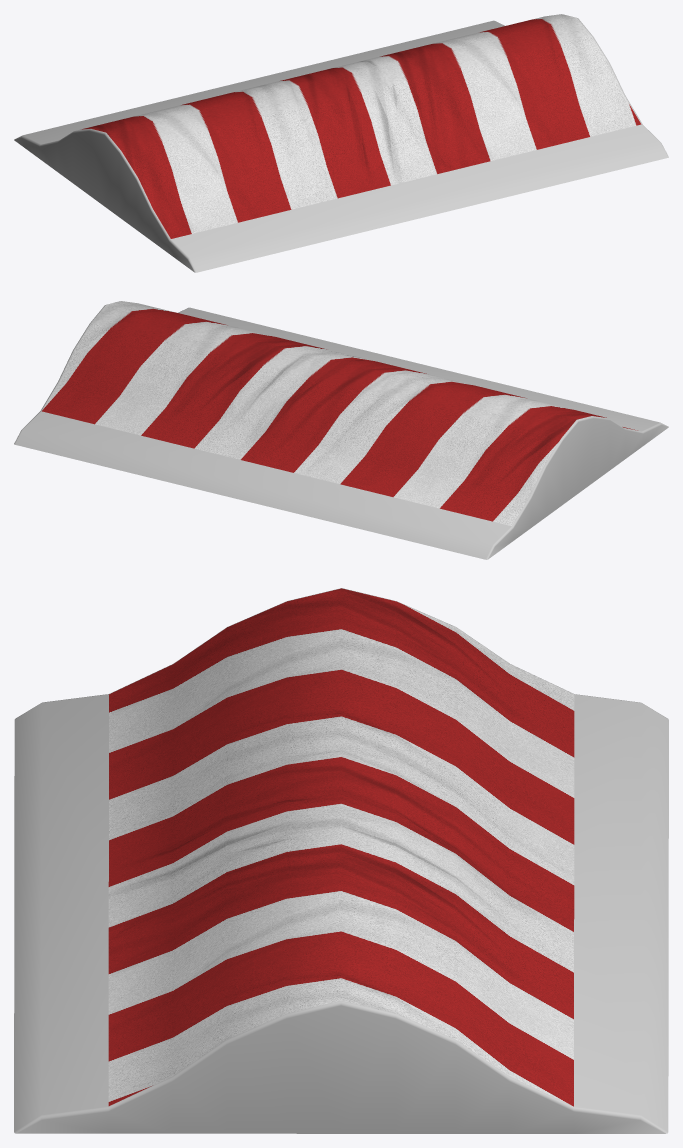
File: SpeedBumps.fbx
3 views of the same model, one above another, from view 1: azimuth 30°, elevation 25°; view 2: azimuth 150°, elevation 25°; view 3: azimuth 270°, elevation 25° (orthographic). The views are drawn at different scales.
Parts seen in each view (by area): view 1: SpeedBump; view 2: SpeedBump; view 3: SpeedBump.
Boxes of the visible parts, <box> form: SpeedBump: <box>14,14,668,272</box>; SpeedBump: <box>14,301,668,559</box>; SpeedBump: <box>14,588,668,1133</box>.
Bounding box in the file's own units: 696 × 103 × 464.
